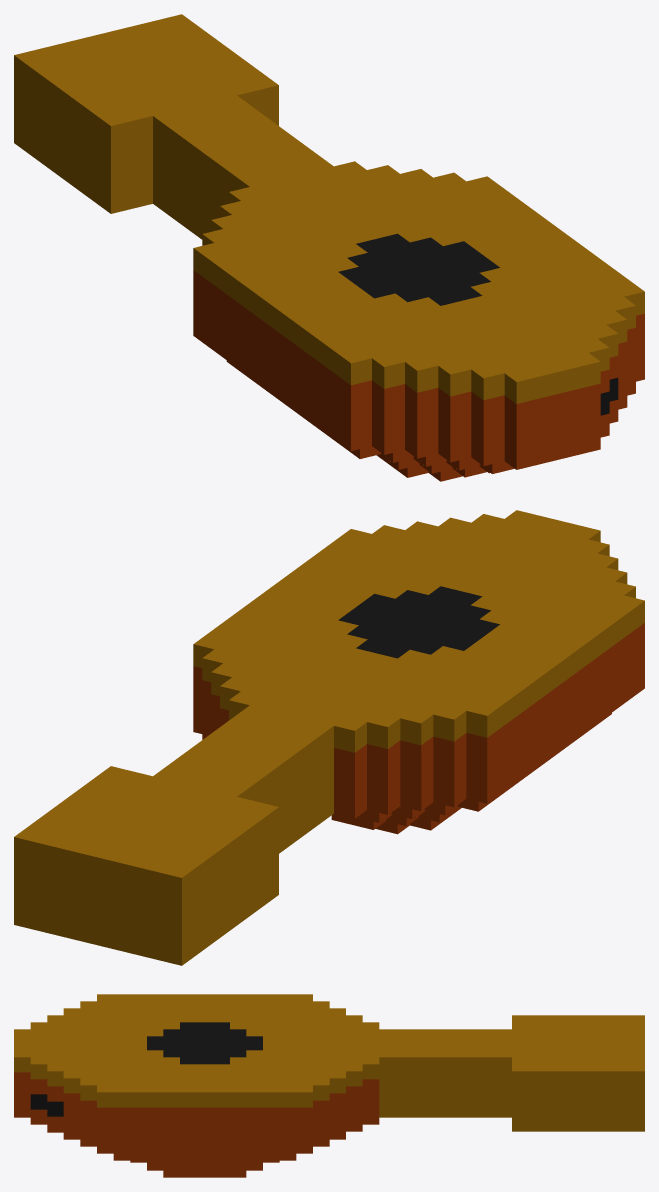
Rendered from old_lute_scene.glb.
3 renders of one model, top to bottom at view 1: azimuth 30°, elevation 25°; view 2: azimuth 150°, elevation 25°; view 3: azimuth 270°, elevation 25°, orthographic. The views are drawn at different scales.
Visible parts, largest first — view 1: Untitled; view 2: Untitled; view 3: Untitled.
Part boxes in pixels (x1,y1,x2,y2): Untitled: [14, 14, 644, 481]; Untitled: [14, 510, 644, 965]; Untitled: [14, 994, 644, 1177].
Bounding box in the file's own units: 1.4 × 0.8 × 3.8.
Materials: 1 (1 with a texture image).
